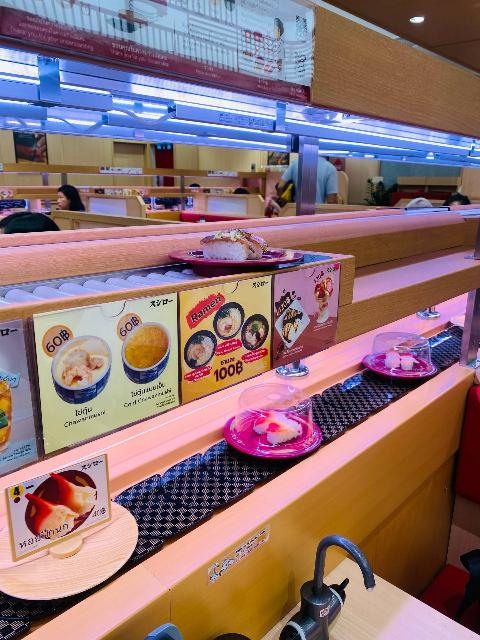janred: (229, 385, 322, 477), (172, 247, 308, 286), (349, 335, 434, 397)
